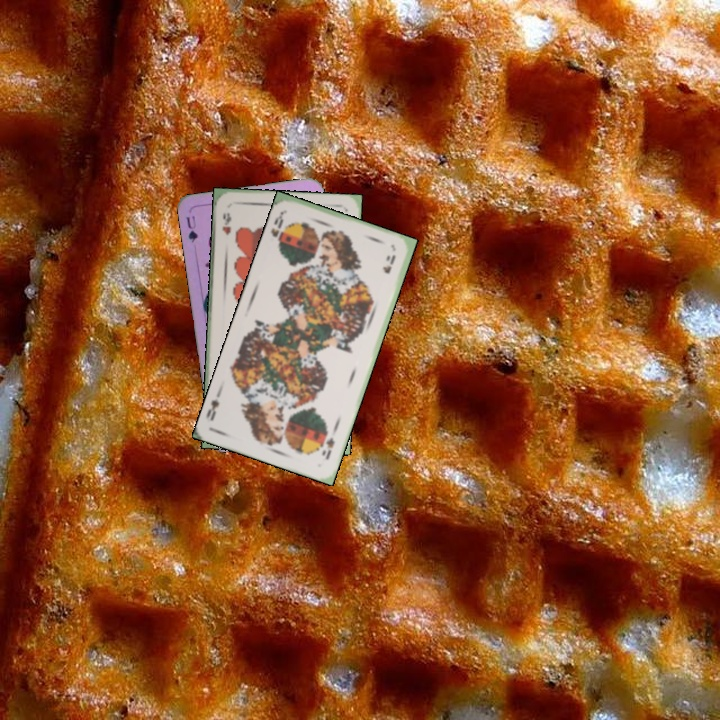GU: (182, 212, 201, 245)
H9: (218, 208, 234, 237)
SO: (267, 208, 289, 250), (318, 433, 337, 462)
